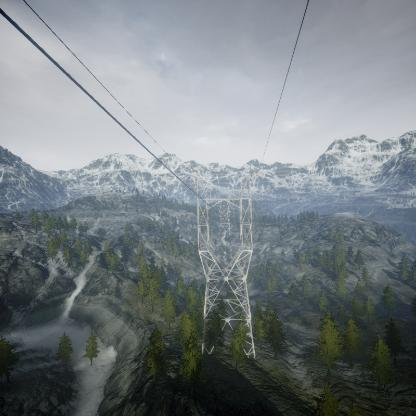tower: (189, 171, 259, 363)
